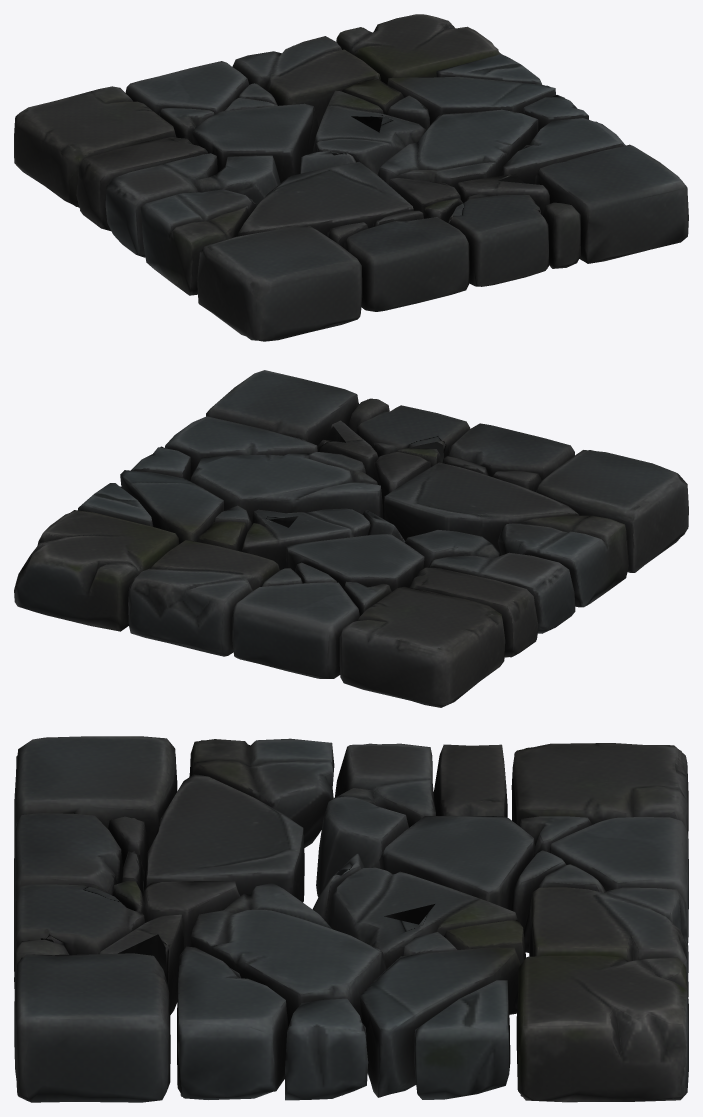
File: crypt_MosaicTile.glb
3 renders of one model, top to bottom at view 1: azimuth 30°, elevation 25°; view 2: azimuth 150°, elevation 25°; view 3: azimuth 270°, elevation 25°, orthographic. The views are drawn at different scales.
Visible parts, largest first — view 1: world; view 2: world; view 3: world.
Boxes of the visible parts, x1,y1,x2,y2 form: world: (14,14,688,341); world: (14,370,688,707); world: (14,736,688,1102).
Size of the model in its own units: 1 by 0.1385 by 0.9879.
1 material, 1 textured.
